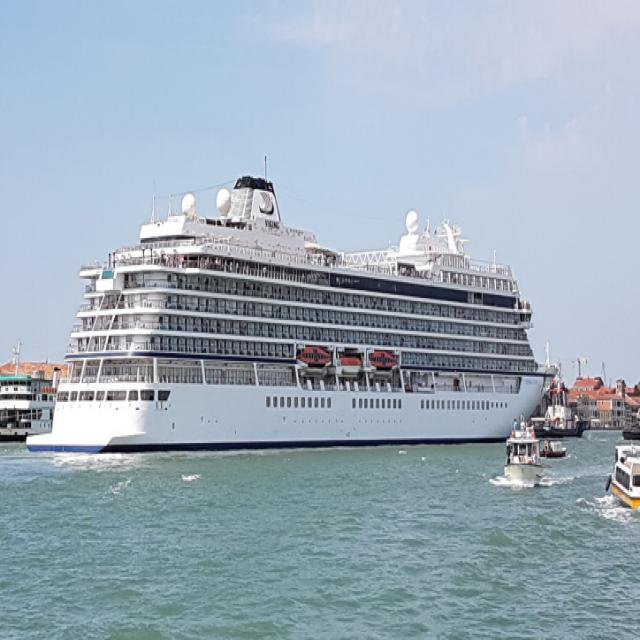cruises: (21, 165, 560, 461)
